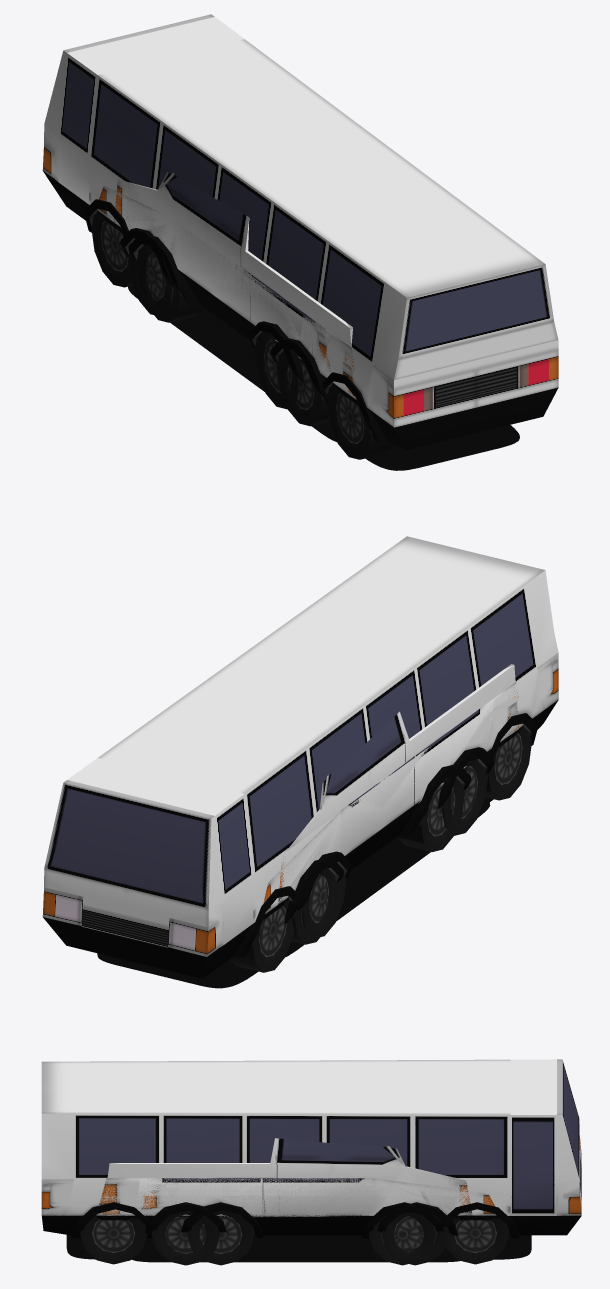
The model's file is Vehicles.fbx.
3 views of the same model, one above another, from view 1: azimuth 30°, elevation 25°; view 2: azimuth 150°, elevation 25°; view 3: azimuth 270°, elevation 25° (orthographic). The views are drawn at different scales.
Parts seen in each view (by area): view 1: Bus, Truck, Car, Van; view 2: Bus, Car, Truck, Van; view 3: Bus, Truck, Car, Van.
Boxes of the visible parts, <box> form: Bus: <box>42,14,558,470</box>; Truck: <box>113,172,354,438</box>; Car: <box>97,185,358,441</box>; Van: <box>158,173,330,426</box>; Bus: <box>42,536,558,988</box>; Car: <box>263,682,523,956</box>; Truck: <box>277,664,518,946</box>; Van: <box>289,729,492,947</box>; Bus: <box>41,1059,581,1264</box>; Truck: <box>103,1138,472,1265</box>; Car: <box>96,1178,498,1265</box>; Van: <box>139,1146,405,1265</box>.
Size of the model in its own units: 29.66 by 24.34 by 87.31.
1 material, 1 textured.
